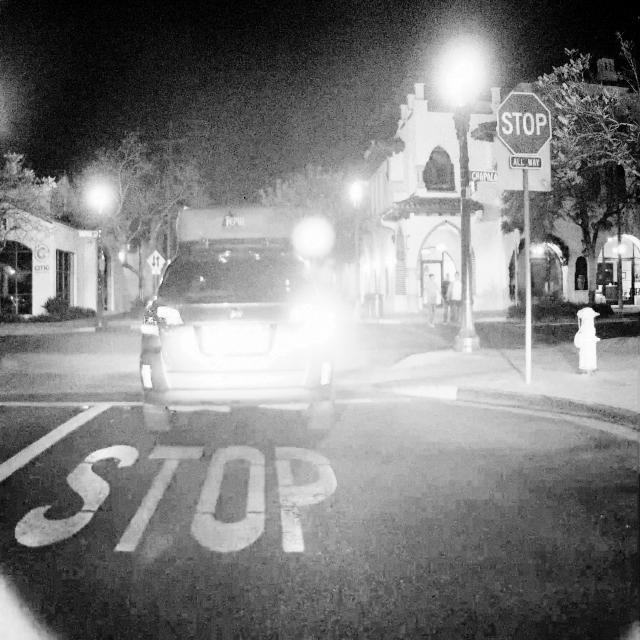Car: (140, 250, 337, 428)
Sign: (497, 93, 552, 170), (496, 136, 552, 192)
